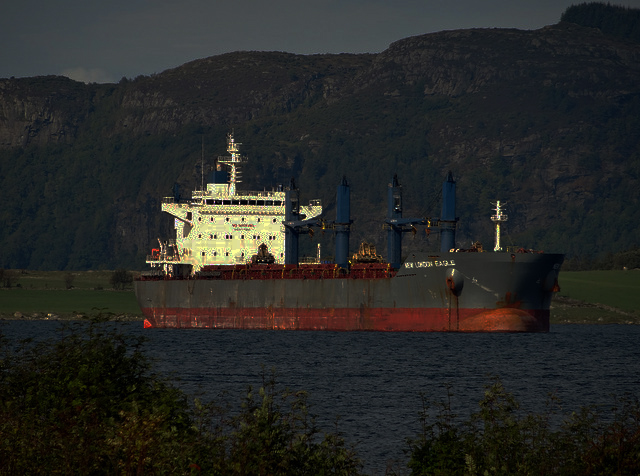bulk carrier: (132, 132, 564, 334)
